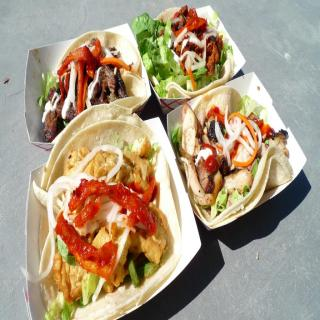Salad: (17, 134, 173, 319), (169, 88, 290, 225), (34, 32, 146, 138), (129, 0, 236, 97)
